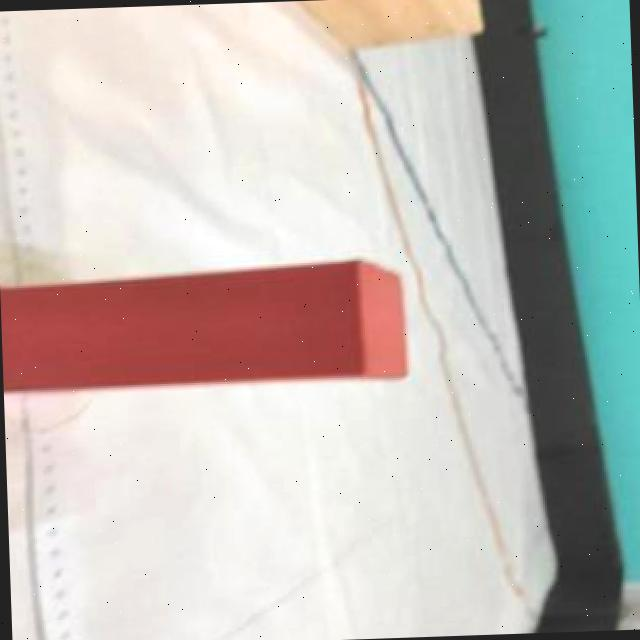redbox: (0, 257, 412, 400)
